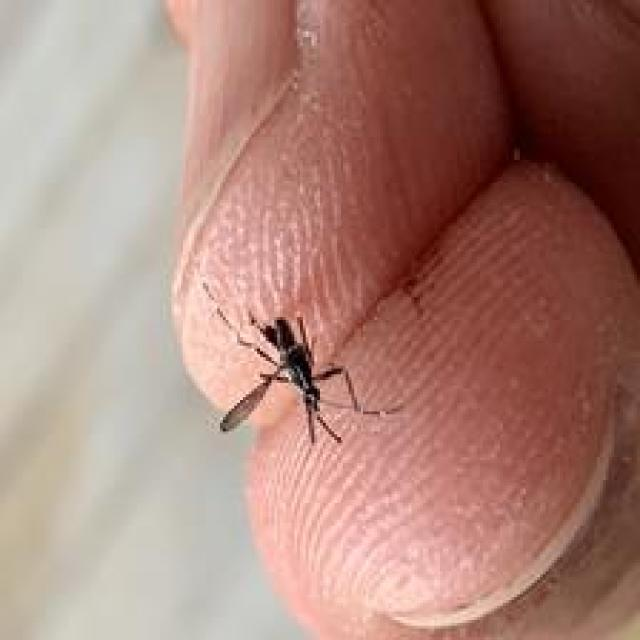Aedes albopictus: (210, 304, 401, 447)
